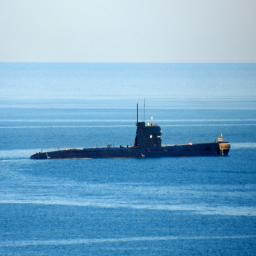submarine: (31, 97, 232, 160)
